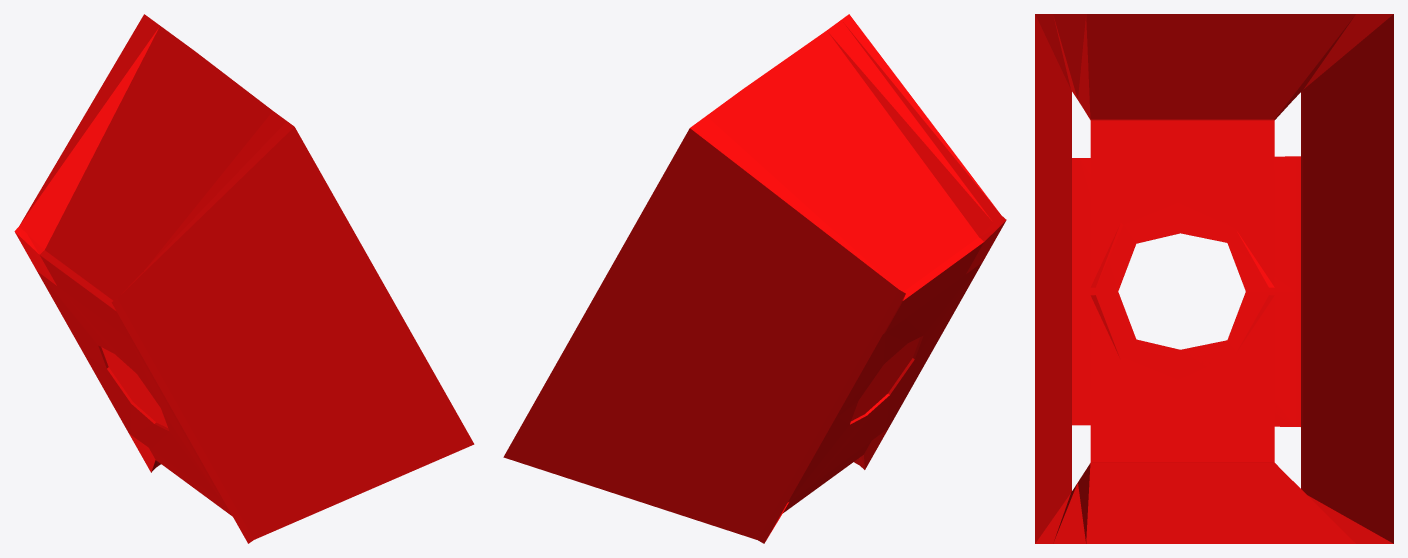
The model's file is 4_nozzle__03.obj.
3 views of the same model, side by side, from view 1: azimuth 30°, elevation 25°; view 2: azimuth 150°, elevation 25°; view 3: azimuth 270°, elevation 25° (orthographic). The views are drawn at different scales.
Visible parts, largest first — view 1: 4_nozzle__03; view 2: 4_nozzle__03; view 3: 4_nozzle__03.
Boxes of the visible parts, <box> form: 4_nozzle__03: <box>14,14,474,543</box>; 4_nozzle__03: <box>503,14,1006,543</box>; 4_nozzle__03: <box>1035,14,1393,543</box>.
Size of the model in its own units: 0.0155 by 0.018 by 0.0117.
